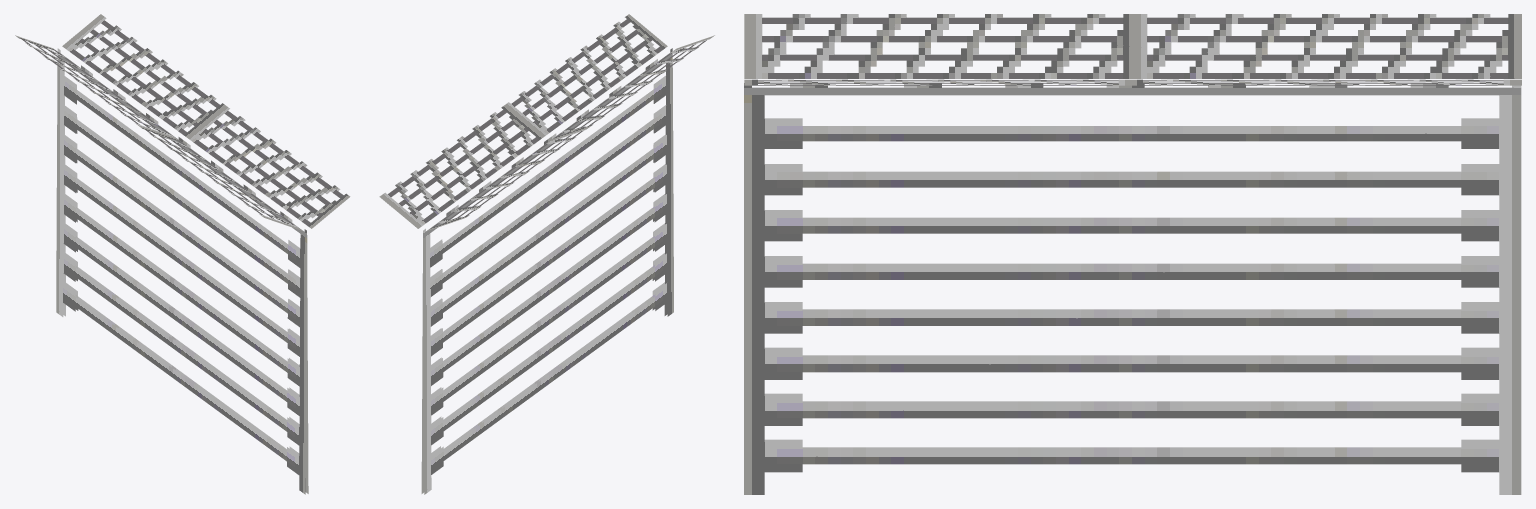
The model's file is razorwirefence.glb.
3 renders of one model, left to right at view 1: azimuth 30°, elevation 25°; view 2: azimuth 150°, elevation 25°; view 3: azimuth 270°, elevation 25°, orthographic. The views are drawn at different scales.
Visible parts, largest first — view 1: Mesh01; view 2: Mesh01; view 3: Mesh01.
Boxes of the visible parts, x1,y1,x2,y2 form: Mesh01: (15,14,350,494); Mesh01: (379,14,714,494); Mesh01: (744,14,1521,494).
Size of the model in its own units: 1.72 by 5.47 by 8.62.
1 material, 1 textured.
